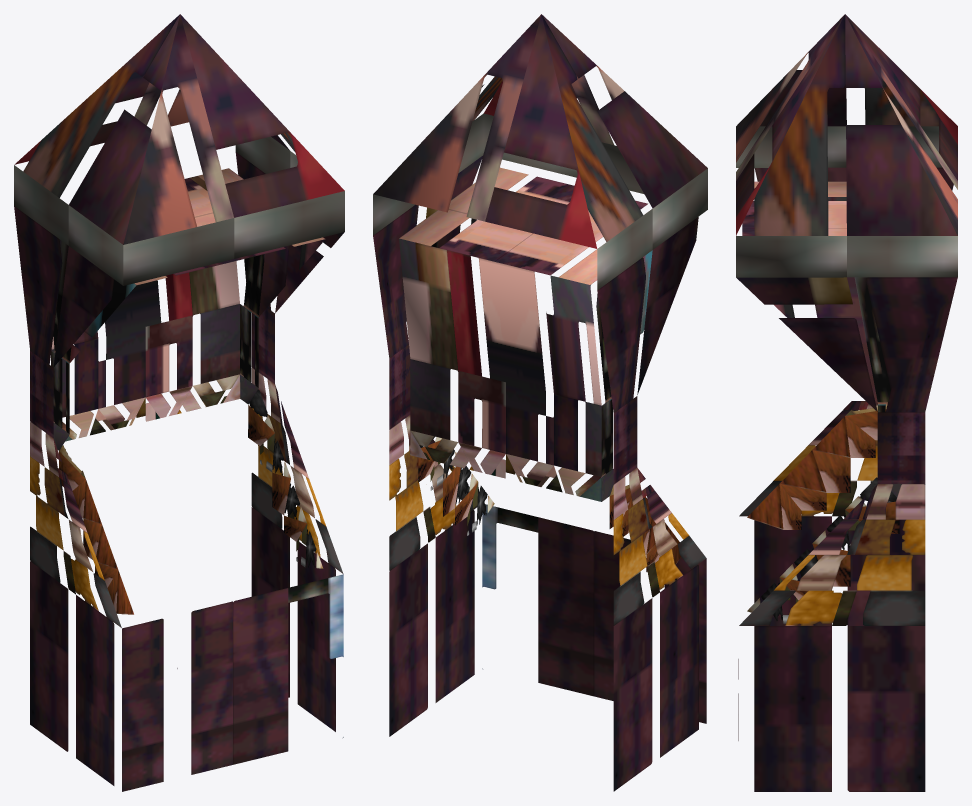
3 renders of one model, left to right at view 1: azimuth 30°, elevation 25°; view 2: azimuth 150°, elevation 25°; view 3: azimuth 270°, elevation 25°, orthographic.
Visible parts, largest first — view 1: T1L2M007_19; view 2: T1L2M007_19; view 3: T1L2M007_19.
Part boxes in pixels (x1,y1,x2,y2): T1L2M007_19: (14,14,344,791); T1L2M007_19: (373,14,707,791); T1L2M007_19: (736,14,957,791).
Size of the model in its own units: 2.28 by 7 by 1.95.
